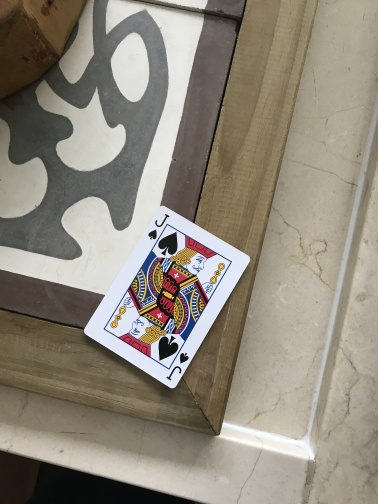jack: (81, 203, 254, 391)
